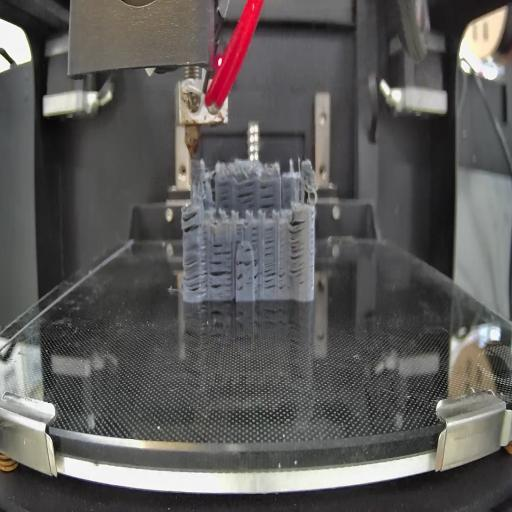cracks: (287, 215, 307, 278), (184, 246, 208, 296), (211, 260, 232, 297), (182, 205, 203, 236), (265, 263, 286, 292), (237, 182, 256, 207), (260, 182, 275, 211), (218, 181, 231, 207), (264, 224, 274, 256), (214, 240, 232, 257), (252, 258, 261, 291), (236, 258, 253, 270), (234, 220, 242, 244), (236, 274, 245, 294), (251, 226, 259, 244), (244, 246, 253, 256)
